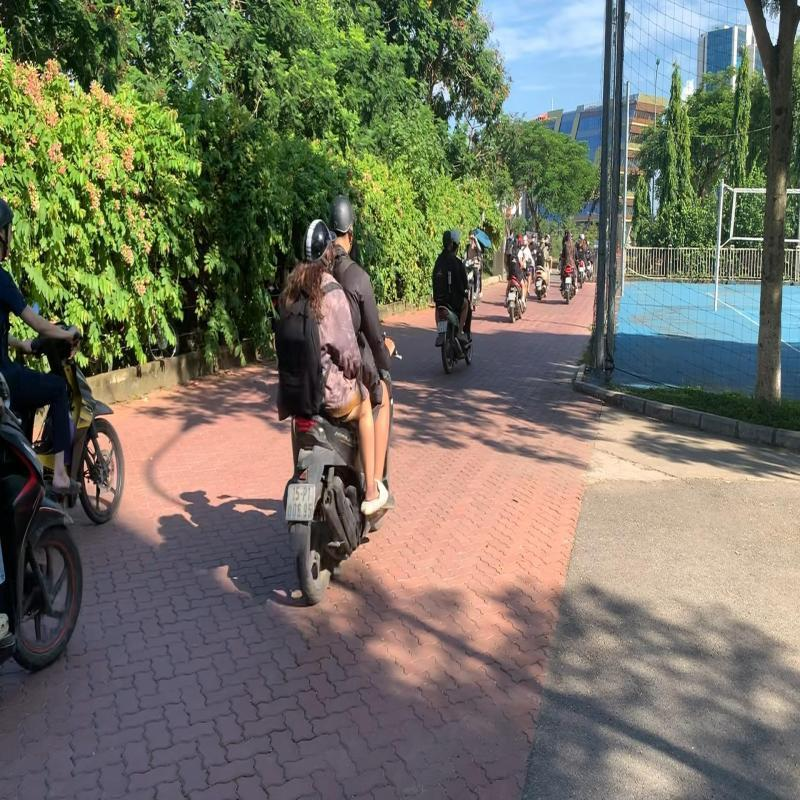helmet: (303, 218, 337, 268), (326, 192, 359, 238)
licenseplate: (283, 483, 317, 524)
motorcyclist: (268, 188, 408, 611)
